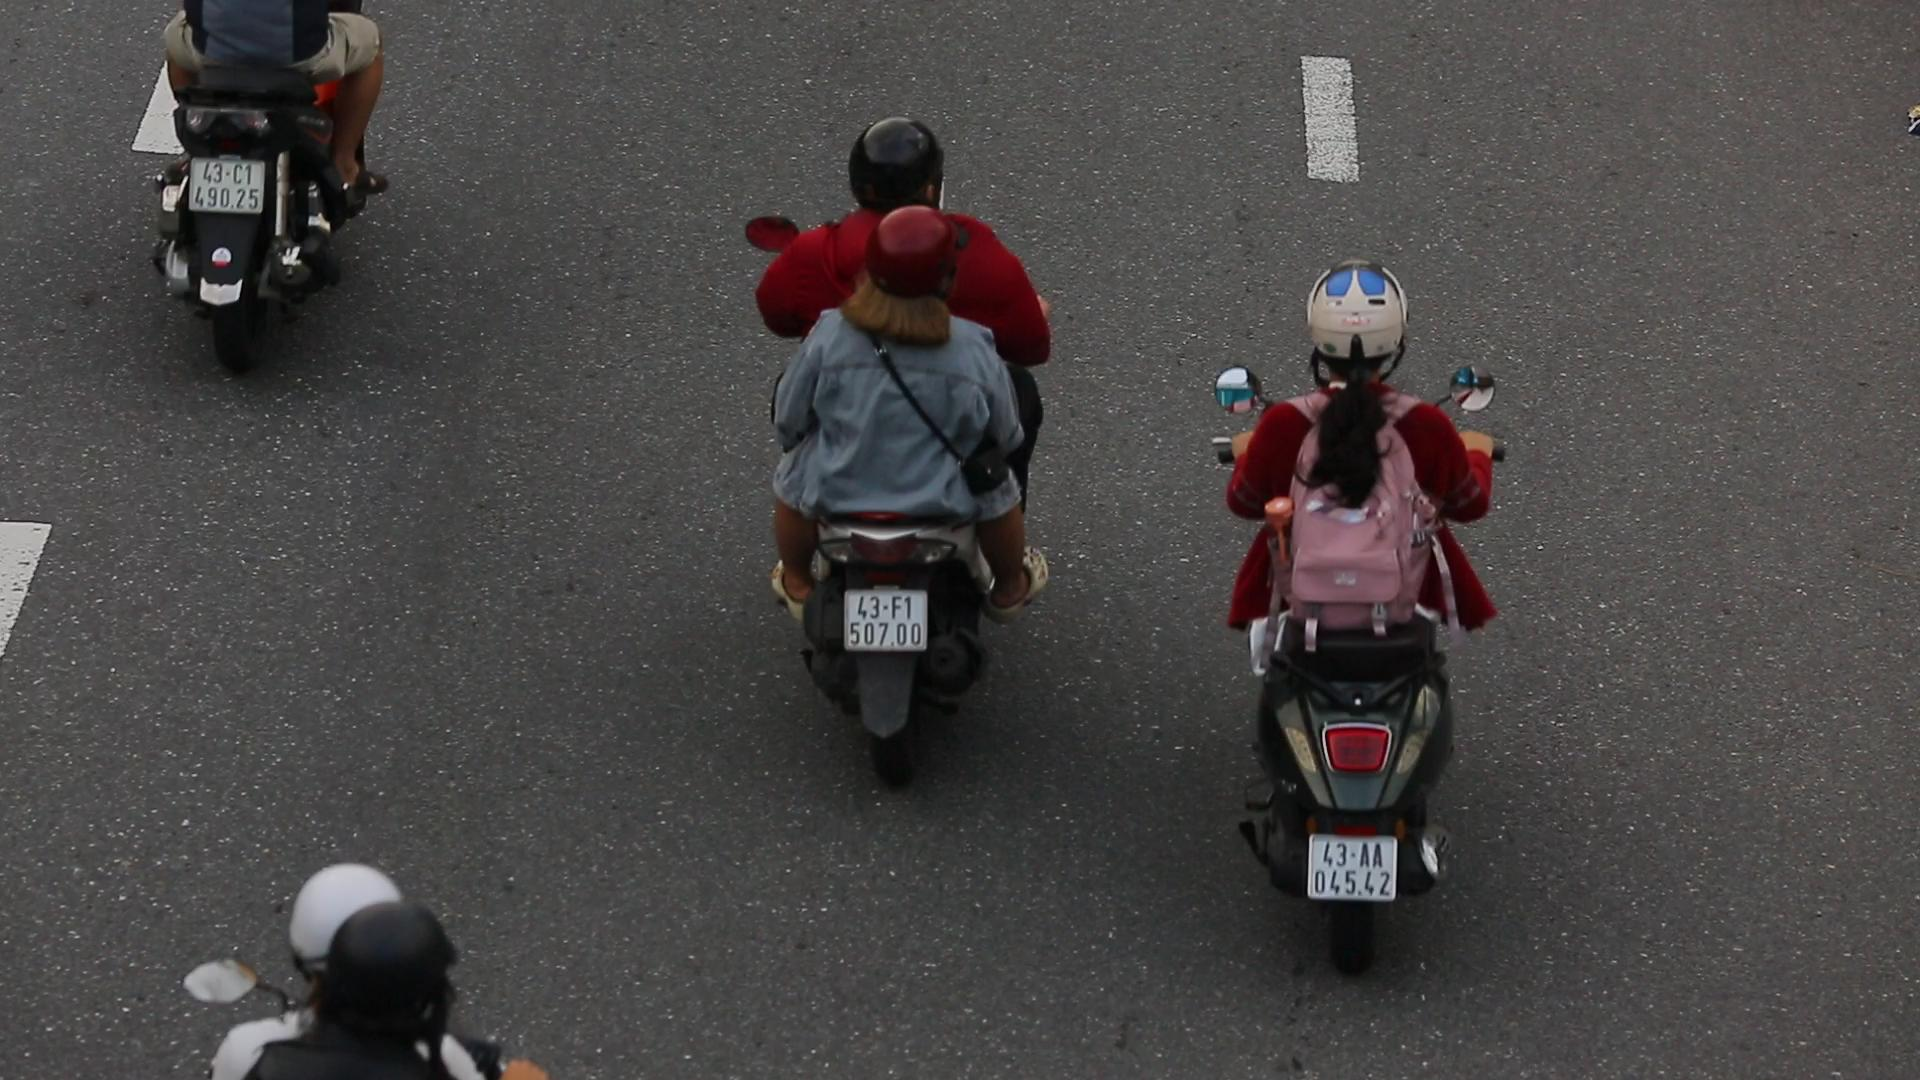motobike: (1211, 247, 1522, 978), (733, 102, 1060, 782)
